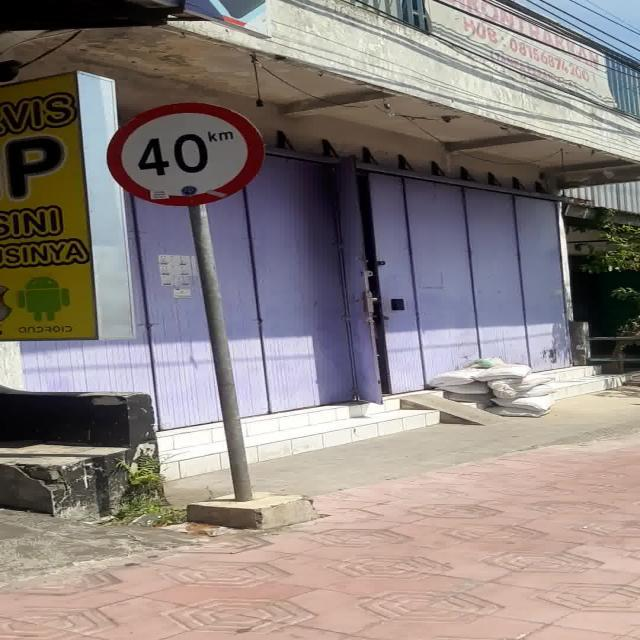Kecepatan Maks. 40 km: (105, 100, 265, 208)
